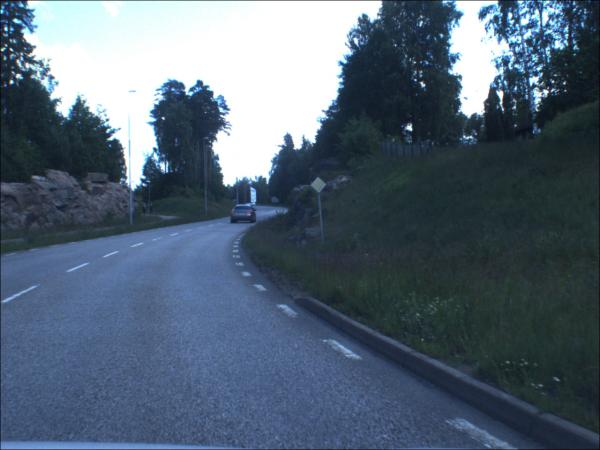PRIORITY_ROAD: (312, 178, 329, 195)
